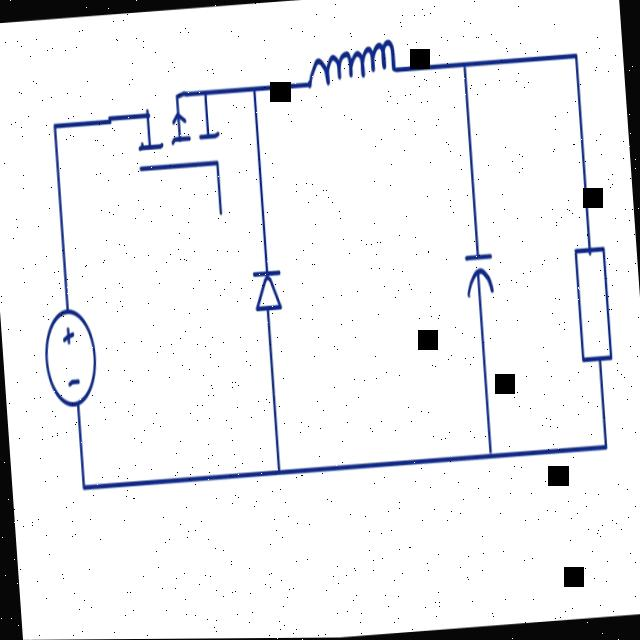capacitor: (434, 213, 508, 323)
diode: (242, 231, 292, 330)
inductor: (276, 4, 412, 118)
mosfet: (115, 55, 235, 237)
resistor: (562, 222, 624, 375)
source: (34, 283, 112, 420)
